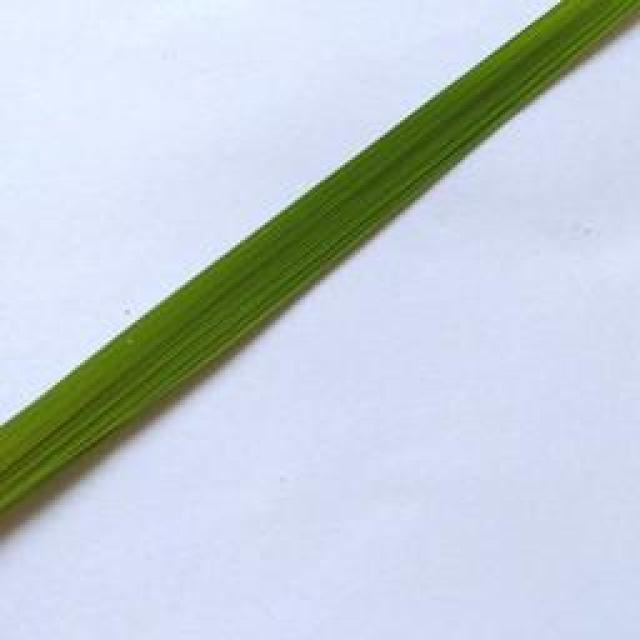Healthy-Plant: (0, 0, 640, 511)
